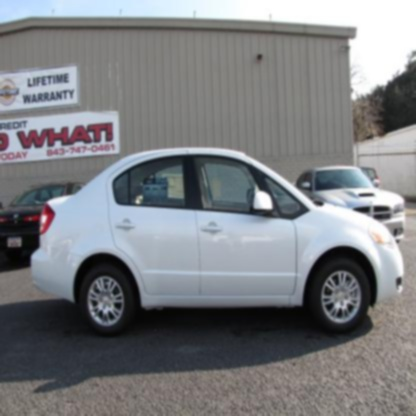Vehicle: (29, 140, 408, 340)
